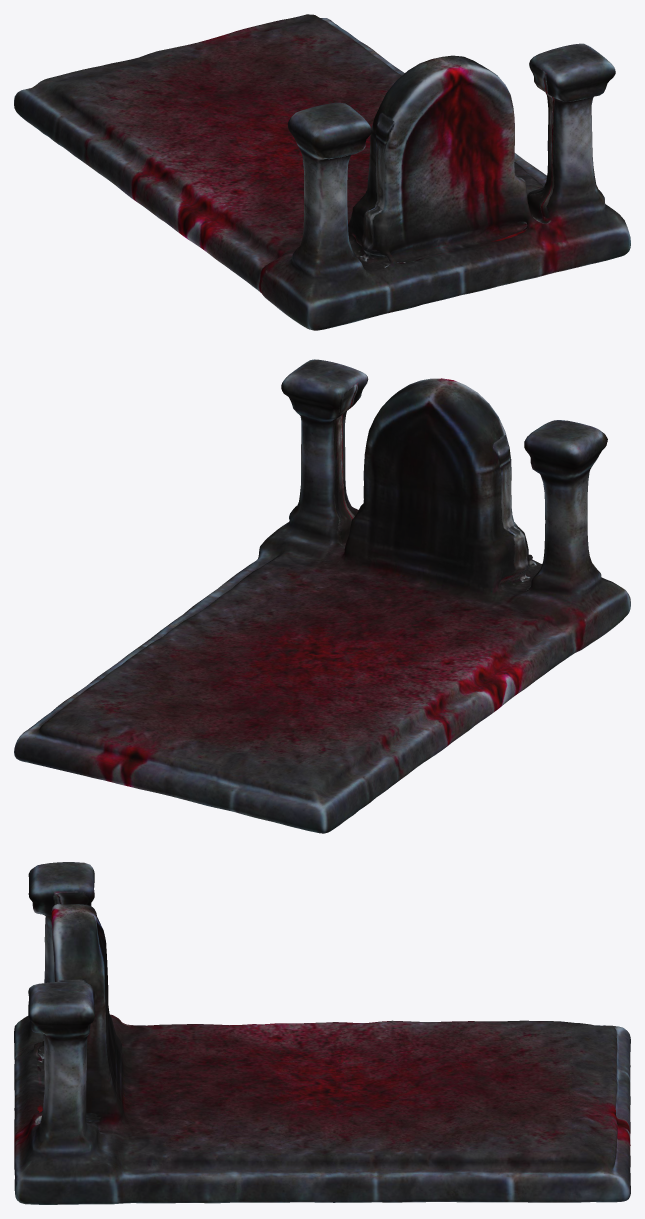
The model's file is Alter 1.fbx.
3 views of the same model, one above another, from view 1: azimuth 30°, elevation 25°; view 2: azimuth 150°, elevation 25°; view 3: azimuth 270°, elevation 25° (orthographic).
Parts seen in each view (by area): view 1: mesh; view 2: mesh; view 3: mesh.
Part boxes in pixels (<box>): mesh: <box>14,14,630,330</box>; mesh: <box>14,359,630,833</box>; mesh: <box>14,862,630,1204</box>.
Bounding box in the file's own units: 61.6 × 38.83 × 99.93.
